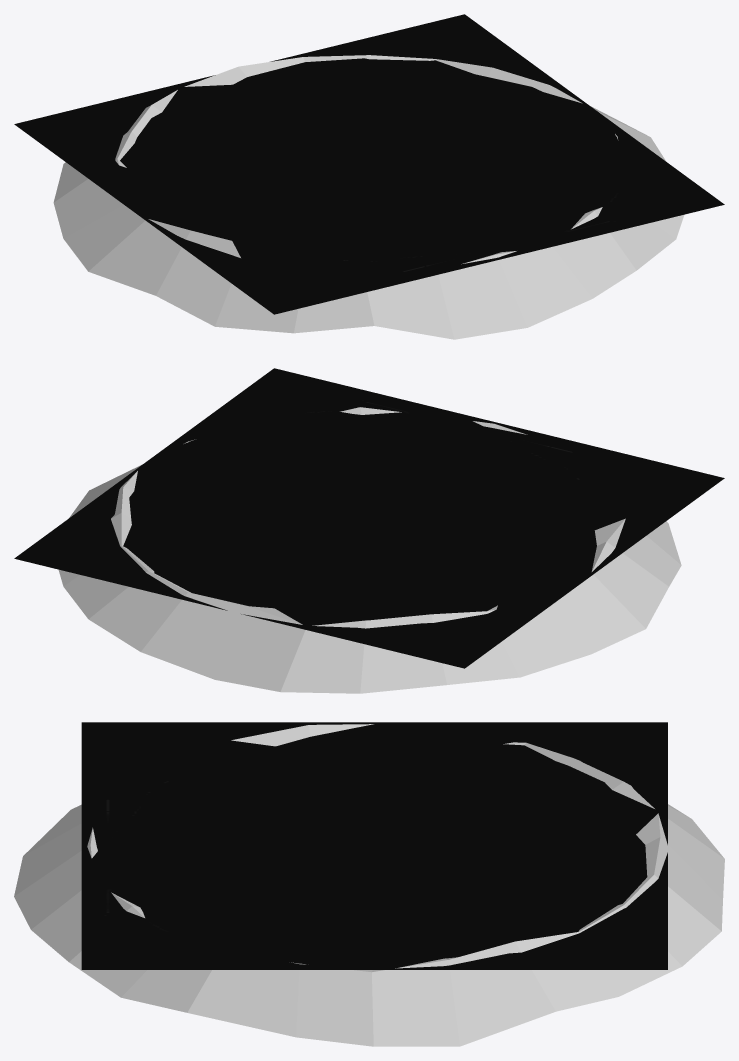
File: quicksand_01.fbx
The picture shows the model from 3 angles, top to bottom: view 1: azimuth 30°, elevation 25°; view 2: azimuth 150°, elevation 25°; view 3: azimuth 270°, elevation 25°; orthographic projection. The views are drawn at different scales.
Visible parts, largest first — view 1: quicksand_01_anim, quicksand_01; view 2: quicksand_01_anim, quicksand_01; view 3: quicksand_01_anim, quicksand_01.
Part boxes in pixels (<box>): quicksand_01_anim: <box>14,14,724,314</box>; quicksand_01: <box>53,55,684,339</box>; quicksand_01_anim: <box>14,368,724,668</box>; quicksand_01: <box>58,407,681,693</box>; quicksand_01_anim: <box>81,722,667,969</box>; quicksand_01: <box>14,724,724,1046</box>.
Size of the model in its own units: 721 by 67.13 by 704.
